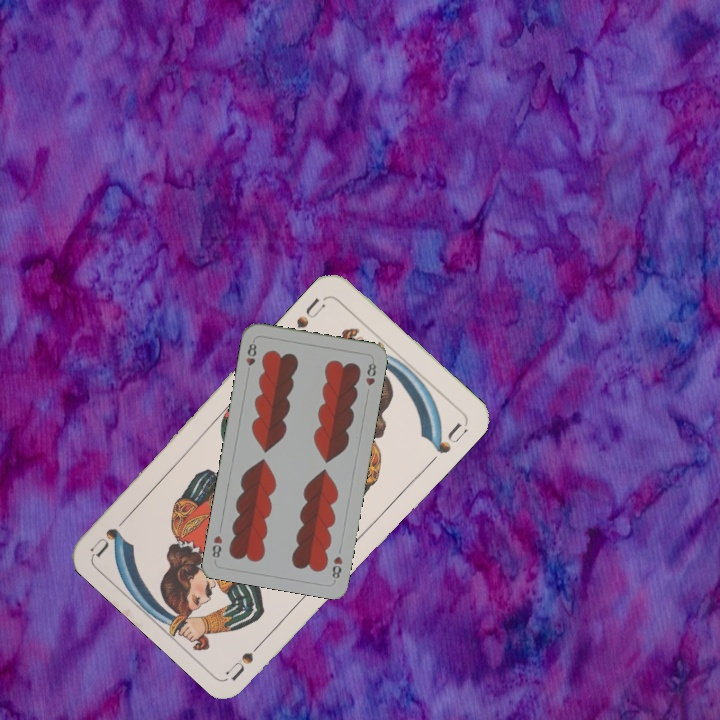H8: (328, 552, 345, 583), (242, 339, 259, 369)
SU: (223, 631, 271, 682), (286, 292, 331, 339)
